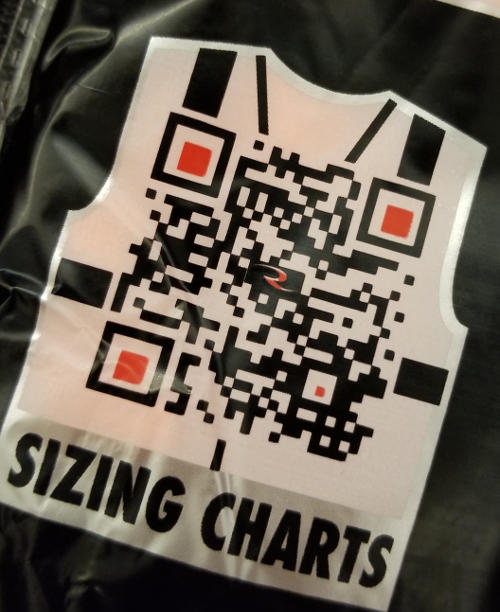QR_CODE: (84, 98, 441, 469)
